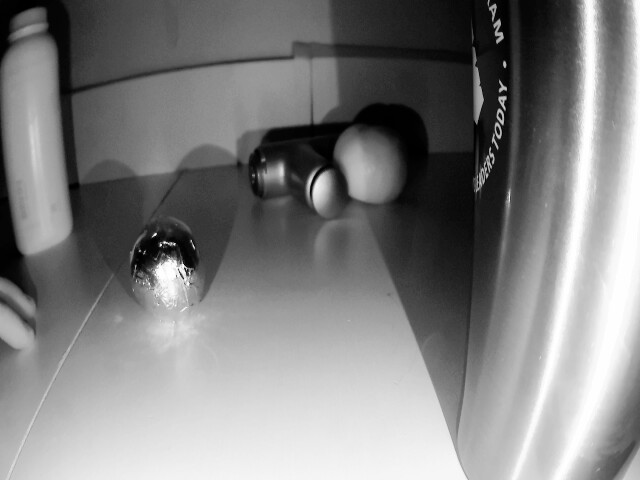black: (117, 215, 210, 324)
